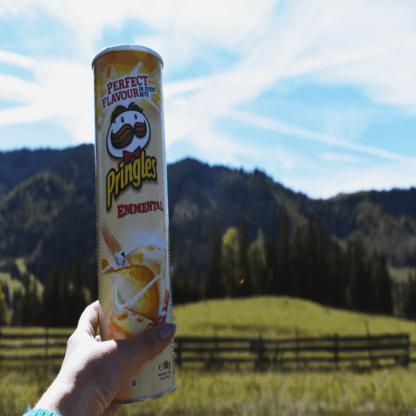potatochip: (92, 44, 180, 404)
